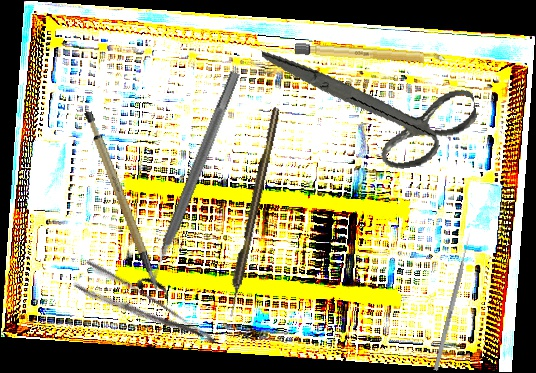Dressing Forceps: (71, 257, 220, 367)
Fixation Ring: (132, 66, 254, 300)
Hook Surgical: (223, 106, 283, 319)
Iris Scissors: (261, 15, 484, 190)
Pusher: (433, 232, 473, 371)
Scalpel Handle: (82, 105, 160, 299), (294, 42, 446, 66)
